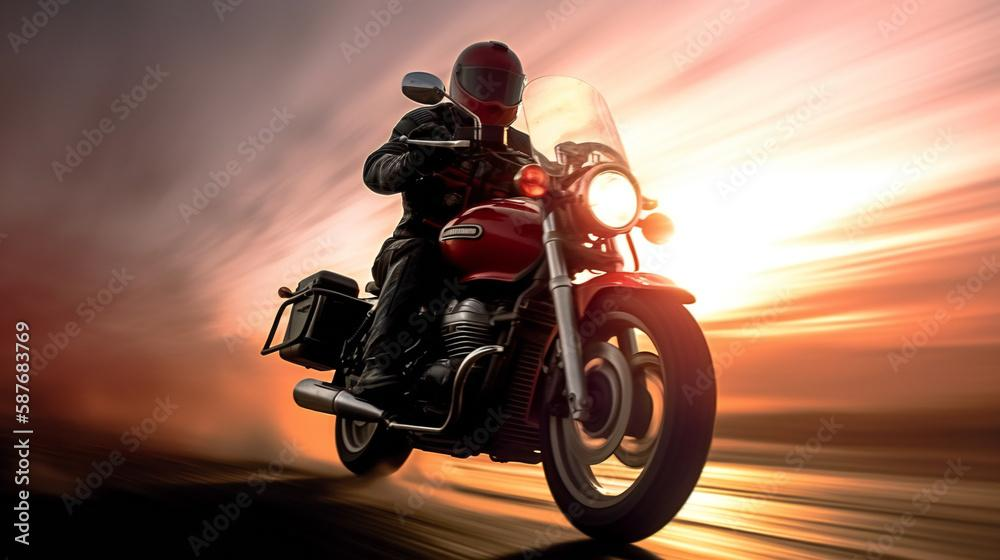helmet: (448, 40, 528, 128)
